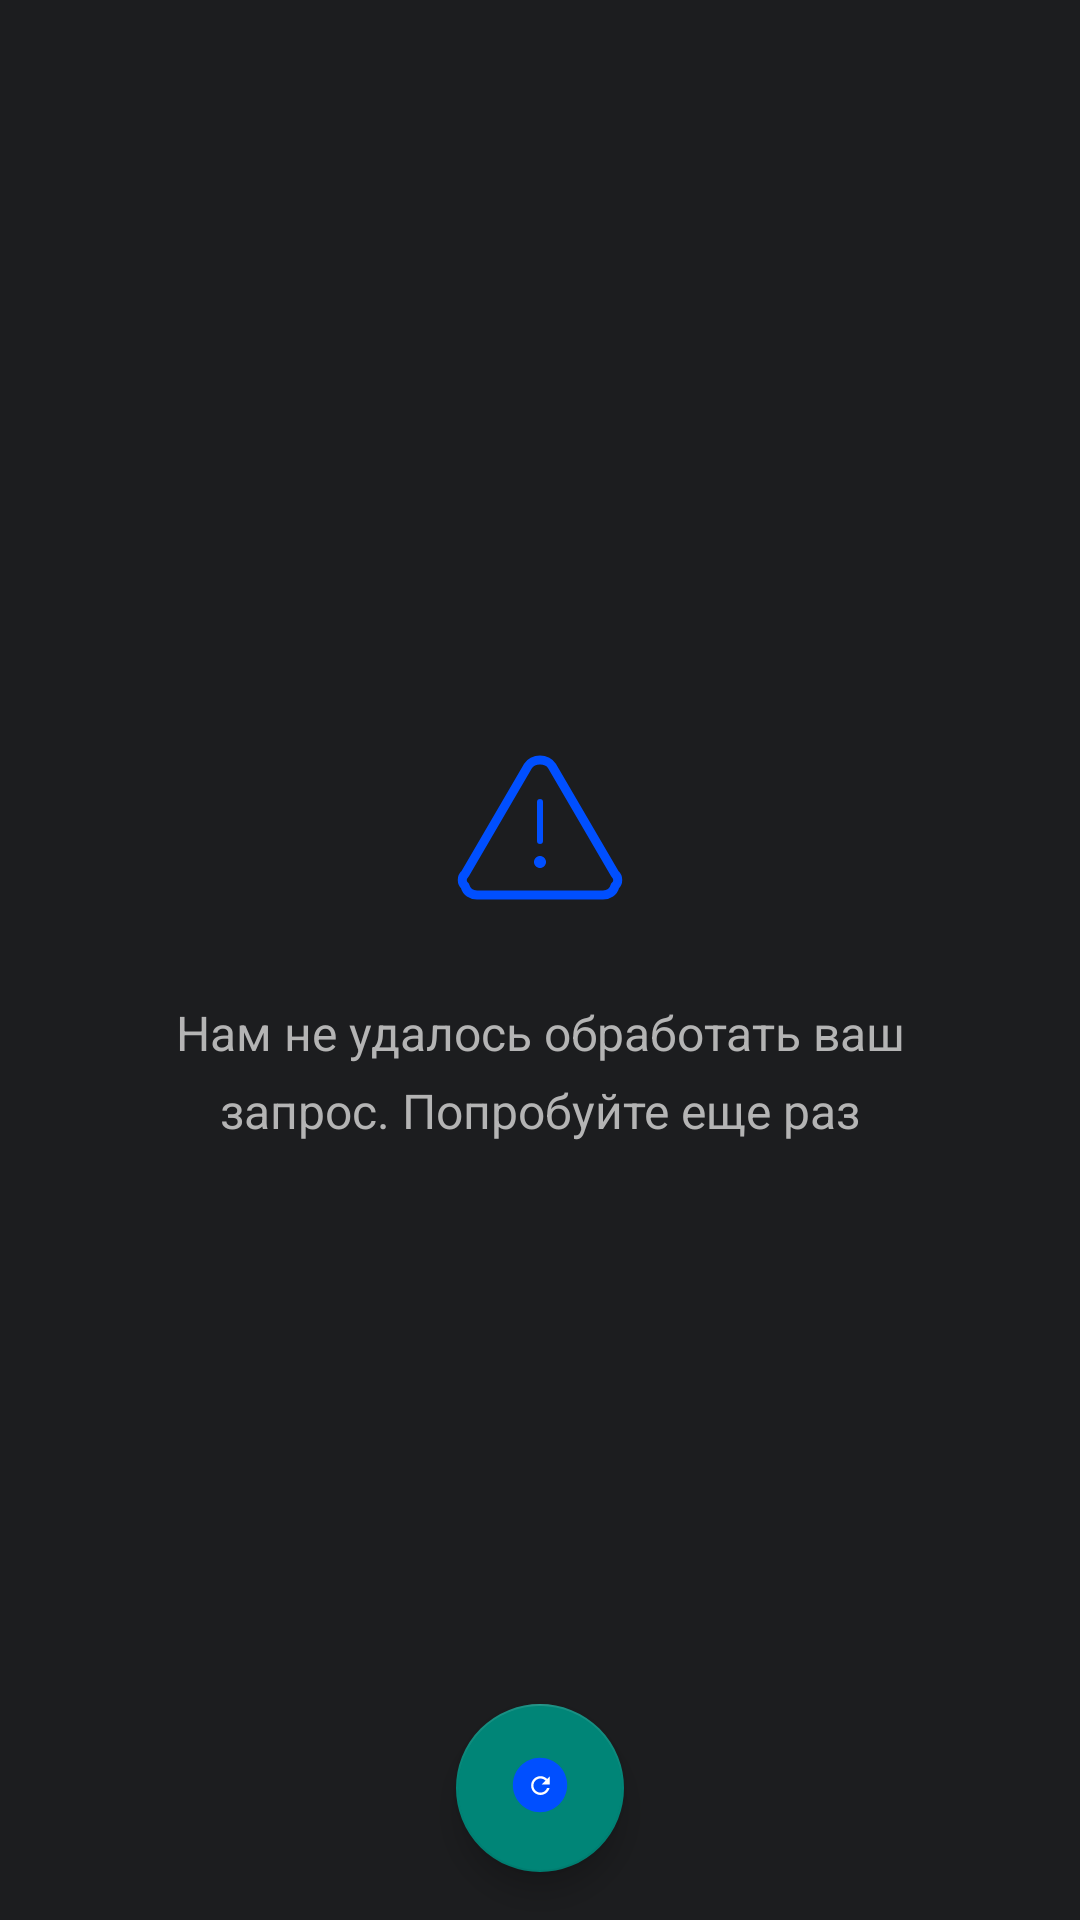

Point at icon controls on the screen. Image size 1080w x 1920h, points as (x,y).
Ошибка загрузки: (540,827)
